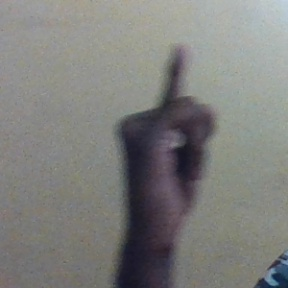I: (117, 39, 223, 222)
